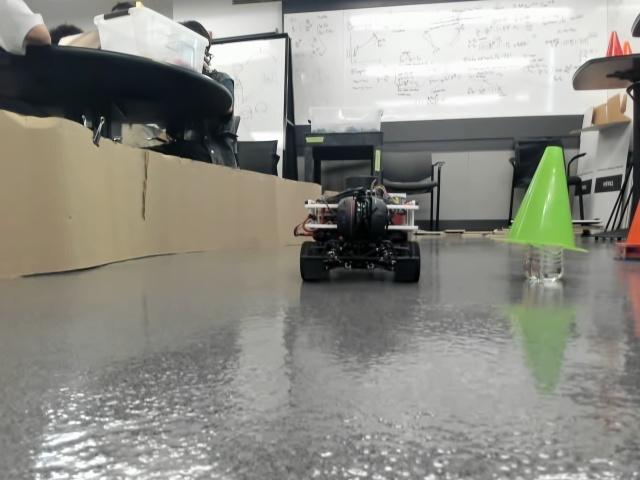Car: (300, 191, 420, 283)
